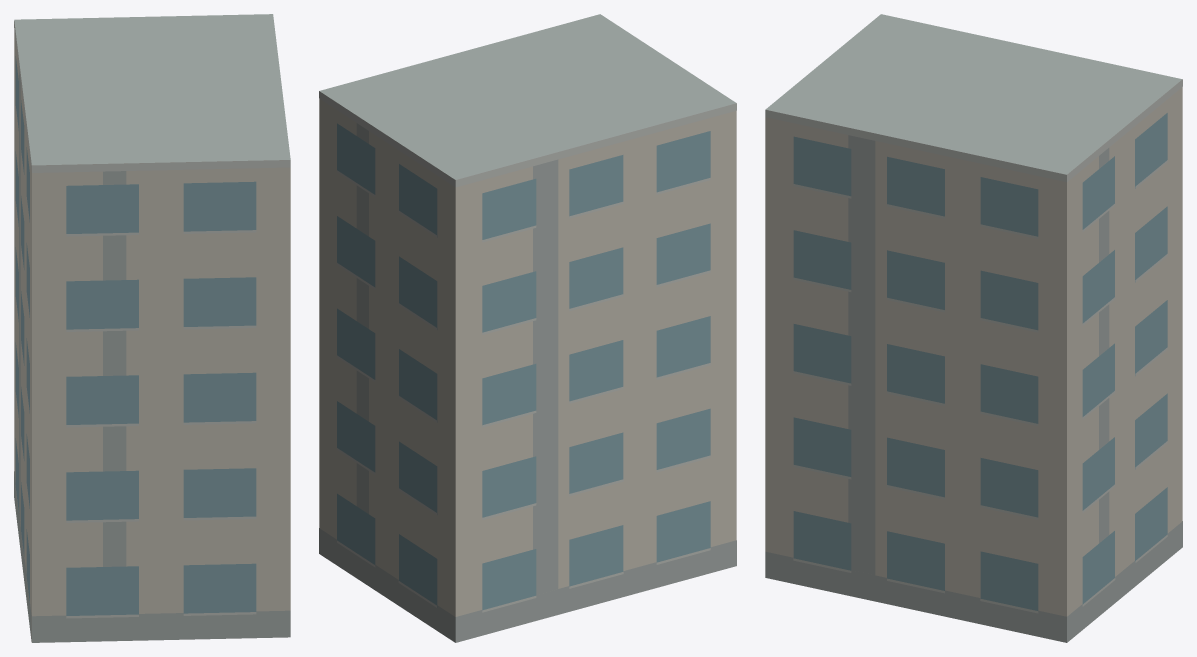
Rendered from residential-4dd0e6c9-401c-403b-b81d-46618f77e1bc.glb.
The picture shows the model from 3 angles, left to right: view 1: azimuth 30°, elevation 25°; view 2: azimuth 150°, elevation 25°; view 3: azimuth 270°, elevation 25°; orthographic projection. The views are drawn at different scales.
Visible parts, largest first — view 1: residential-4dd0e6c9-401c-403b-b81d-46618f77e1bc.tmp; view 2: residential-4dd0e6c9-401c-403b-b81d-46618f77e1bc.tmp; view 3: residential-4dd0e6c9-401c-403b-b81d-46618f77e1bc.tmp.
Boxes of the visible parts, x1,y1,x2,y2 form: residential-4dd0e6c9-401c-403b-b81d-46618f77e1bc.tmp: [14, 14, 290, 642]; residential-4dd0e6c9-401c-403b-b81d-46618f77e1bc.tmp: [319, 14, 736, 642]; residential-4dd0e6c9-401c-403b-b81d-46618f77e1bc.tmp: [765, 14, 1182, 642].
Bounding box in the file's own units: 11.24 × 15.25 × 12.33.
